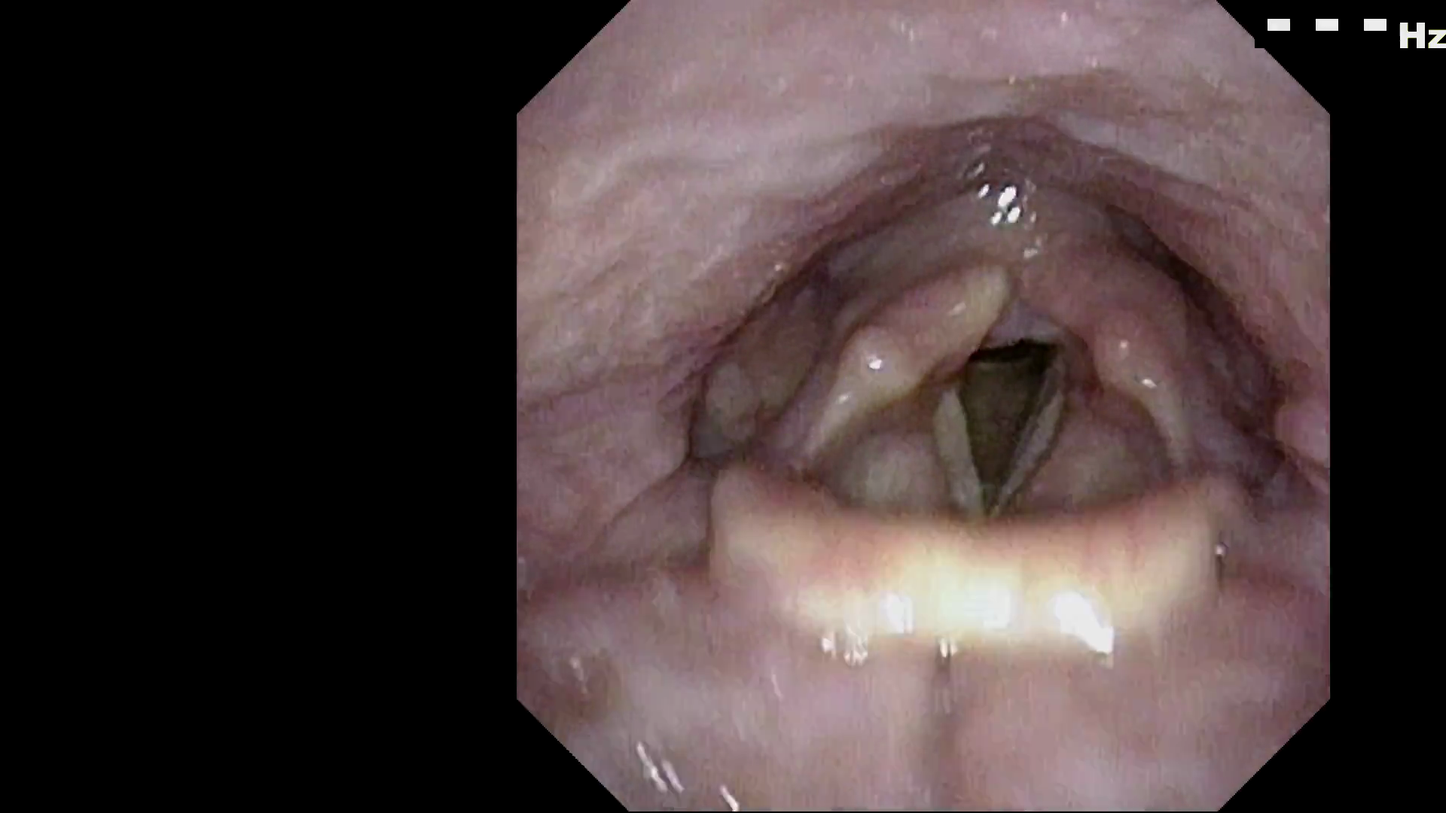epiglottis: (685, 343, 1283, 623)
trachea: (904, 229, 1079, 445)
